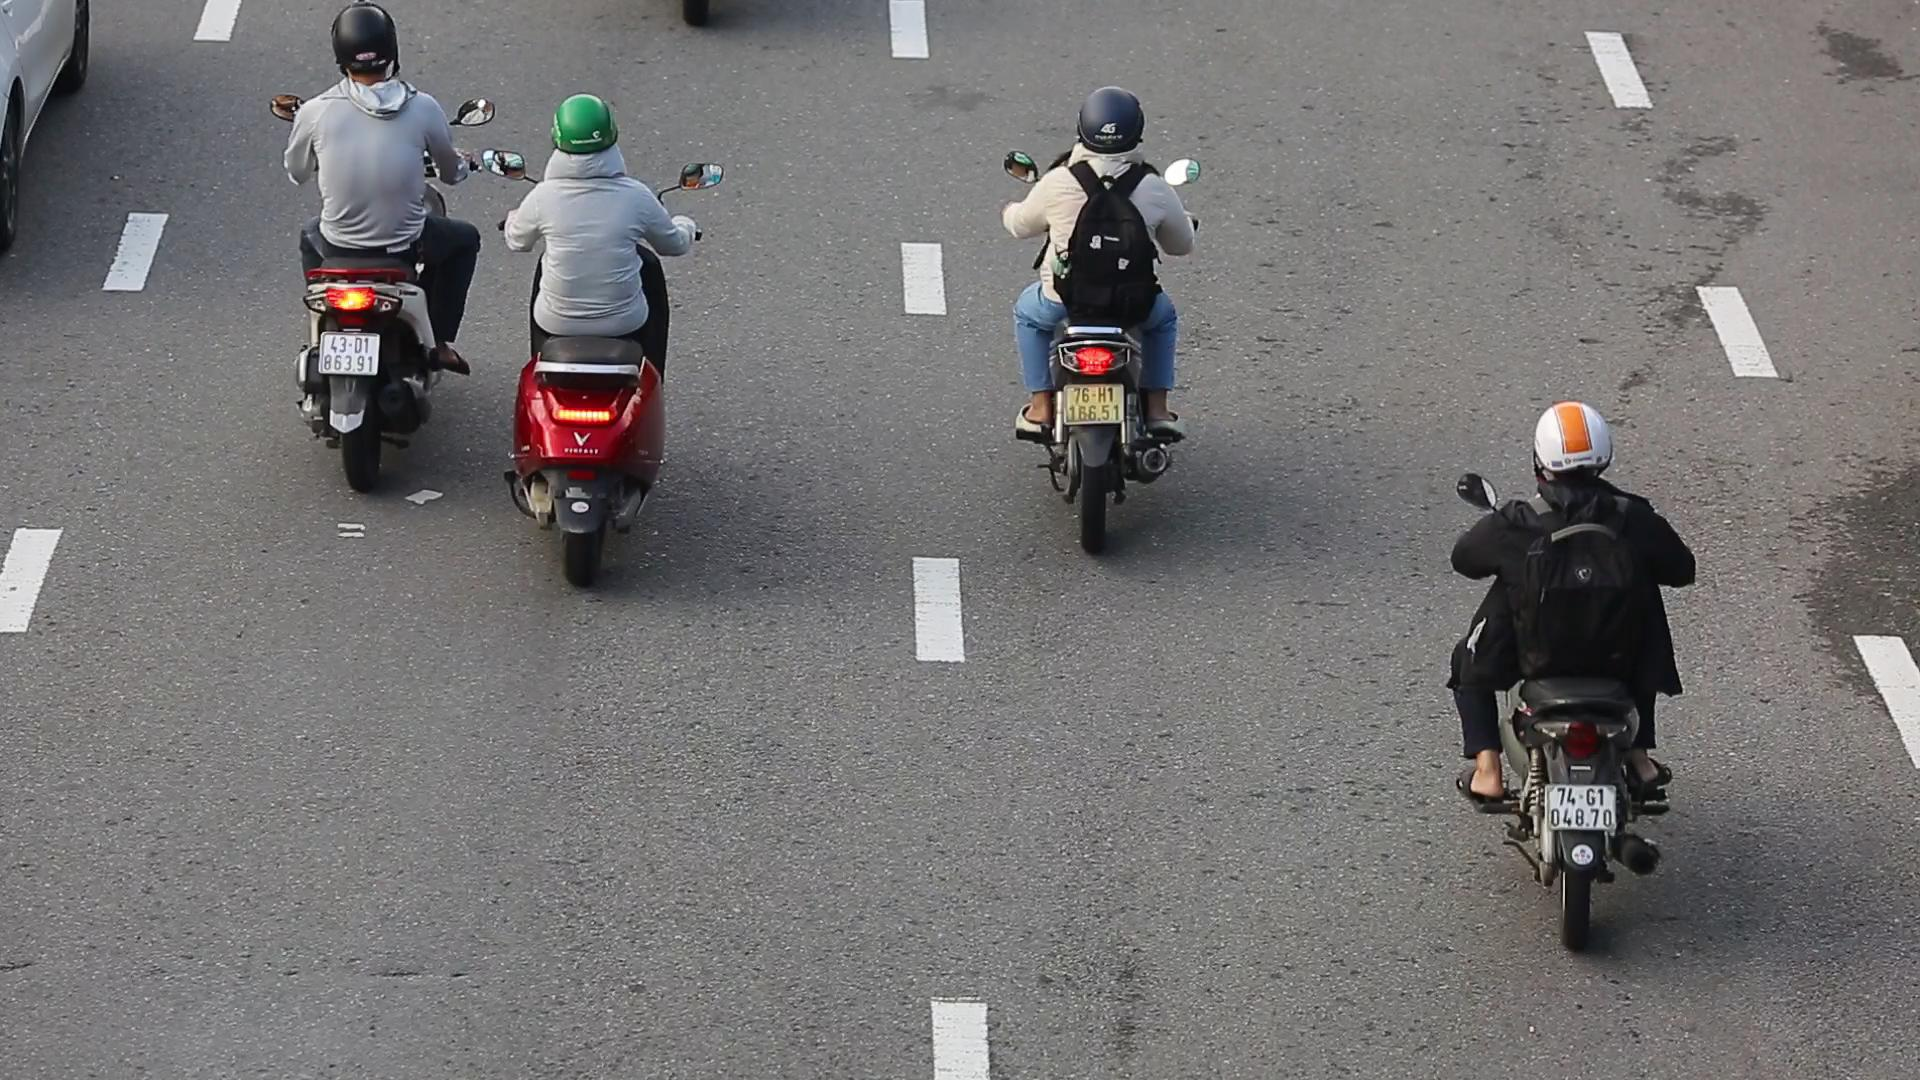motobike: (1440, 398, 1697, 959), (266, 3, 498, 495), (990, 87, 1204, 555)
